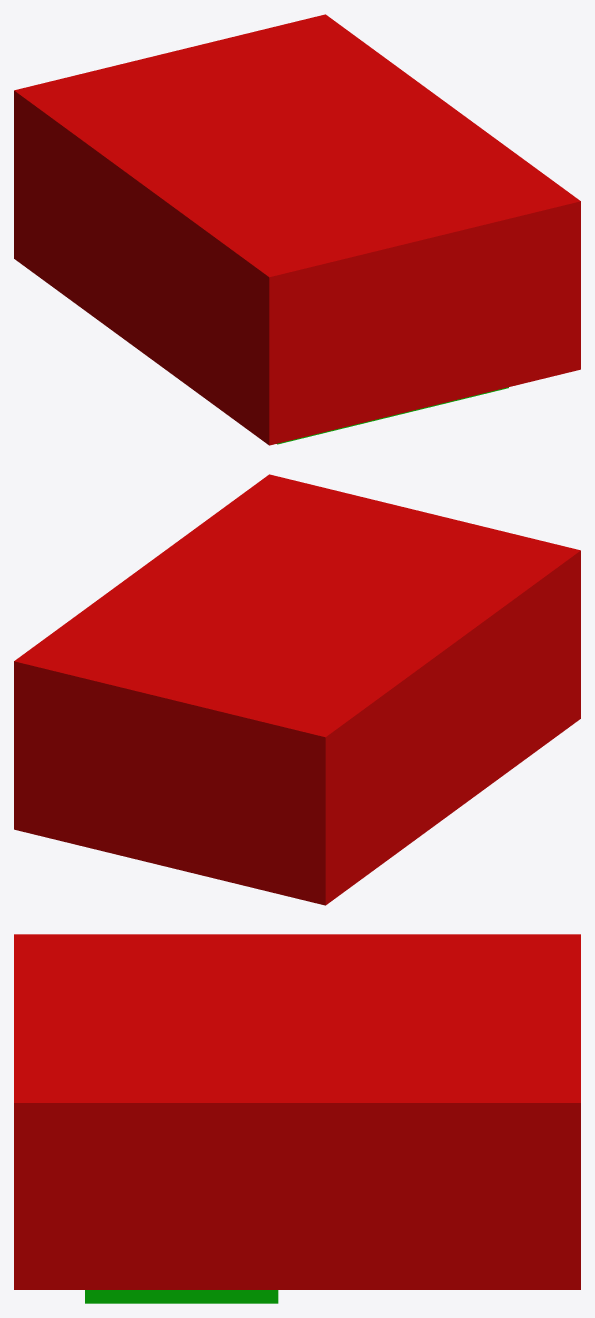
File: SM_DG_Bag_ProxyBackpack01.fbx
3 renders of one model, top to bottom at view 1: azimuth 30°, elevation 25°; view 2: azimuth 150°, elevation 25°; view 3: azimuth 270°, elevation 25°, orthographic. The views are drawn at different scales.
Visible parts, largest first — view 1: DG_OUTFIT_SM_DG_Bag_ProxyBackpack01; view 2: DG_OUTFIT_SM_DG_Bag_ProxyBackpack01; view 3: DG_OUTFIT_SM_DG_Bag_ProxyBackpack01.
Part boxes in pixels (x1=…): DG_OUTFIT_SM_DG_Bag_ProxyBackpack01: x1=14, y1=14, x2=580, y2=445; DG_OUTFIT_SM_DG_Bag_ProxyBackpack01: x1=14, y1=474, x2=580, y2=905; DG_OUTFIT_SM_DG_Bag_ProxyBackpack01: x1=14, y1=934, x2=580, y2=1303.
Size of the model in its own units: 0.31 by 0.44 by 0.198.
